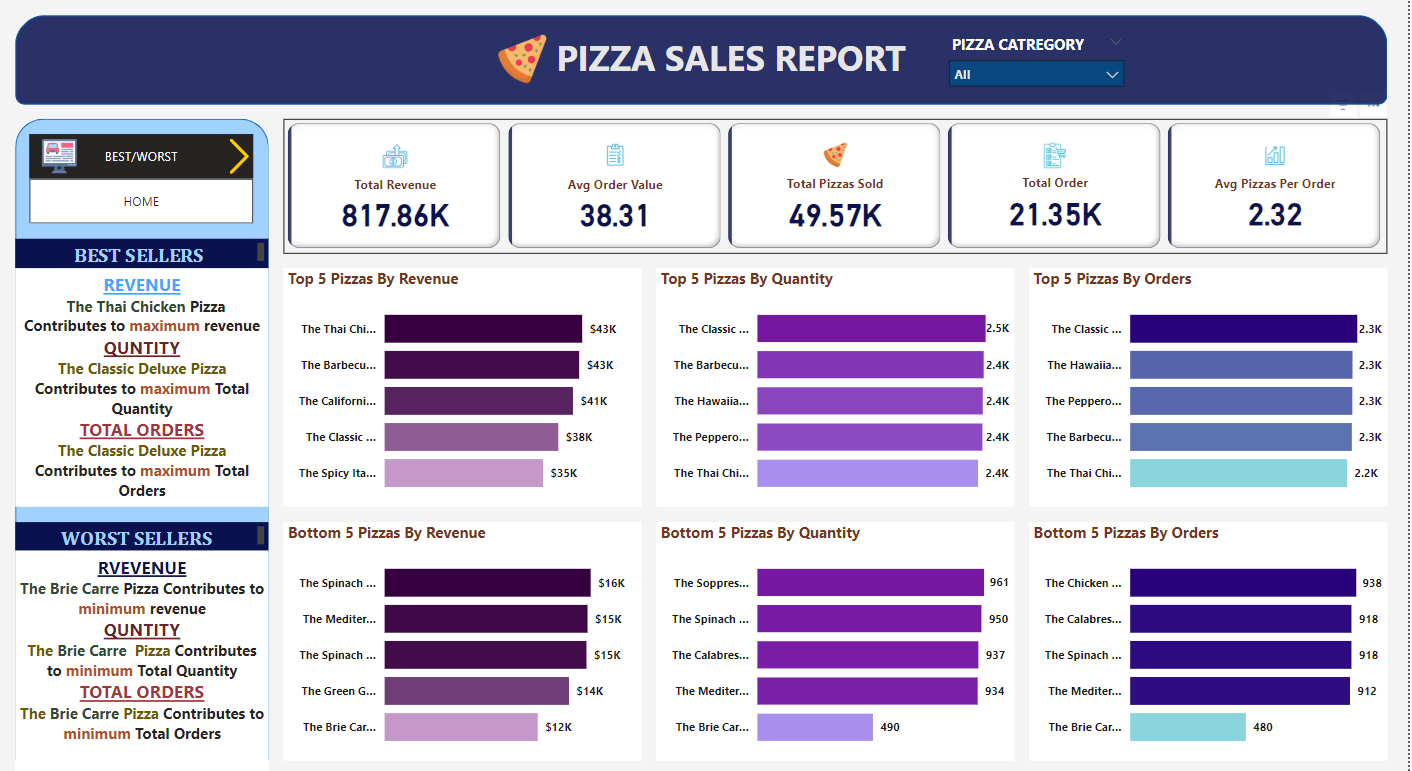

Layout of this report page (visuals, bound fields, positions):
{"tool":"powerbi","page":{"name":"BEST/WORST","canvas":[1510,830],"ordinal":1},"visuals":[{"type":"cardVisual","fields":{"Data":["public pizzas_sales.Total Revenue","public pizzas_sales.Avg Order Value","public pizzas_sales.Total Pizzas Sold","public pizzas_sales.Total Order","public pizzas_sales.Avg Pizzas Per Order"]},"box":[304,128,1184,144],"z":0},{"type":"shape","box":[16,16,1472,96],"z":1000},{"type":"textbox","box":[560,32,448,64],"z":2000},{"type":"image","box":[512,32,96,64],"z":3000},{"type":"shape","box":[16,128,272,688],"z":9000},{"type":"textbox","box":[16,256,272,32],"z":10000},{"type":"textbox","box":[16,288,272,256],"z":11000},{"type":"textbox","box":[16,560,272,32],"z":12000},{"type":"textbox","box":[16,590,272,240],"z":13000},{"type":"slicer","fields":{"Values":["public pizzas_sales.pizza_category"]},"box":[1008,32,208,64],"z":14000},{"type":"barChart","title":"Top 5 Pizzas By Revenue","fields":{"Category":["public pizzas_sales.pizza_name"],"Y":["public pizzas_sales.Total Revenue"]},"box":[304,288,384,256],"z":14001},{"type":"barChart","title":"Bottom 5 Pizzas By Revenue","fields":{"Category":["public pizzas_sales.pizza_name"],"Y":["public pizzas_sales.Total Revenue"]},"box":[304,560,384,256],"z":14002},{"type":"barChart","title":"Top 5 Pizzas By Quantity","fields":{"Category":["public pizzas_sales.pizza_name"],"Y":["public pizzas_sales.Total Pizzas Sold"]},"box":[704,288,384,256],"z":14003},{"type":"barChart","title":"Top 5 Pizzas By Orders","fields":{"Category":["public pizzas_sales.pizza_name"],"Y":["public pizzas_sales.Total Order"]},"box":[1104,288,384,256],"z":14004},{"type":"barChart","title":"Bottom 5 Pizzas By Quantity","fields":{"Category":["public pizzas_sales.pizza_name"],"Y":["public pizzas_sales.Total Pizzas Sold"]},"box":[704,560,384,256],"z":14005},{"type":"barChart","title":"Bottom 5 Pizzas By Orders","fields":{"Category":["public pizzas_sales.pizza_name"],"Y":["public pizzas_sales.Total Order"]},"box":[1104,560,384,256],"z":14006},{"type":"pageNavigator","box":[32,144,240,48],"z":14007},{"type":"pageNavigator","box":[32,192,240,48],"z":14008},{"type":"image","box":[224,144,64,48],"z":14009},{"type":"image","box":[32,144,64,48],"z":14010}]}

Visuals, with their boxes in screenshot pixels (x1, y1, x2, y2), scaled from the page's 1510x830 canvas onto the 1412x771 screenshot:
cardVisual - public pizzas_sales.Total Revenue x public pizzas_sales.Avg Order Value: BBox(284, 119, 1391, 253)
shape: BBox(15, 15, 1391, 104)
textbox: BBox(524, 30, 943, 89)
image: BBox(479, 30, 569, 89)
shape: BBox(15, 119, 269, 758)
textbox: BBox(15, 238, 269, 268)
textbox: BBox(15, 268, 269, 505)
textbox: BBox(15, 520, 269, 550)
textbox: BBox(15, 548, 269, 770)
slicer - public pizzas_sales.pizza_category: BBox(943, 30, 1137, 89)
"Top 5 Pizzas By Revenue" barChart: BBox(284, 268, 643, 505)
"Bottom 5 Pizzas By Revenue" barChart: BBox(284, 520, 643, 758)
"Top 5 Pizzas By Quantity" barChart: BBox(658, 268, 1017, 505)
"Top 5 Pizzas By Orders" barChart: BBox(1032, 268, 1391, 505)
"Bottom 5 Pizzas By Quantity" barChart: BBox(658, 520, 1017, 758)
"Bottom 5 Pizzas By Orders" barChart: BBox(1032, 520, 1391, 758)
pageNavigator: BBox(30, 134, 254, 178)
pageNavigator: BBox(30, 178, 254, 223)
image: BBox(209, 134, 269, 178)
image: BBox(30, 134, 90, 178)
